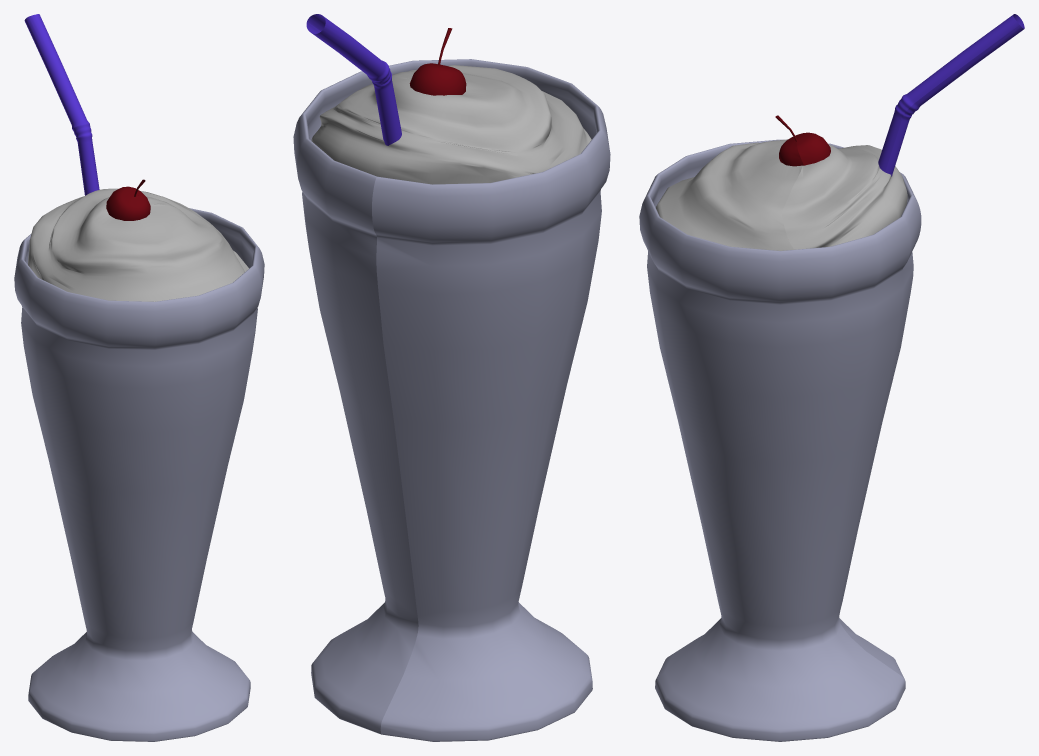
The model's file is milkshake.fbx.
3 views of the same model, side by side, from view 1: azimuth 30°, elevation 25°; view 2: azimuth 150°, elevation 25°; view 3: azimuth 270°, elevation 25° (orthographic). The views are drawn at different scales.
Parts seen in each view (by area): view 1: revolvedSurface3, nurbsSphere2, nurbsCylinder1, nurbsSphere3; view 2: revolvedSurface3, nurbsSphere2, nurbsCylinder1, nurbsSphere3; view 3: revolvedSurface3, nurbsSphere2, nurbsCylinder1, nurbsSphere3.
Part boxes in pixels (box(x1,y1,x2,y2)): revolvedSurface3: box(14, 208, 264, 741); nurbsSphere2: box(28, 188, 248, 301); nurbsCylinder1: box(24, 14, 99, 195); nurbsSphere3: box(106, 186, 150, 220); revolvedSurface3: box(293, 59, 610, 741); nurbsSphere2: box(311, 65, 591, 184); nurbsCylinder1: box(306, 14, 401, 145); nurbsSphere3: box(409, 63, 466, 95); revolvedSurface3: box(639, 139, 921, 741); nurbsSphere2: box(656, 139, 907, 250); nurbsCylinder1: box(878, 14, 1024, 176); nurbsSphere3: box(779, 132, 830, 166).
Size of the model in its own units: 0.148 by 0.3905 by 0.2022.
